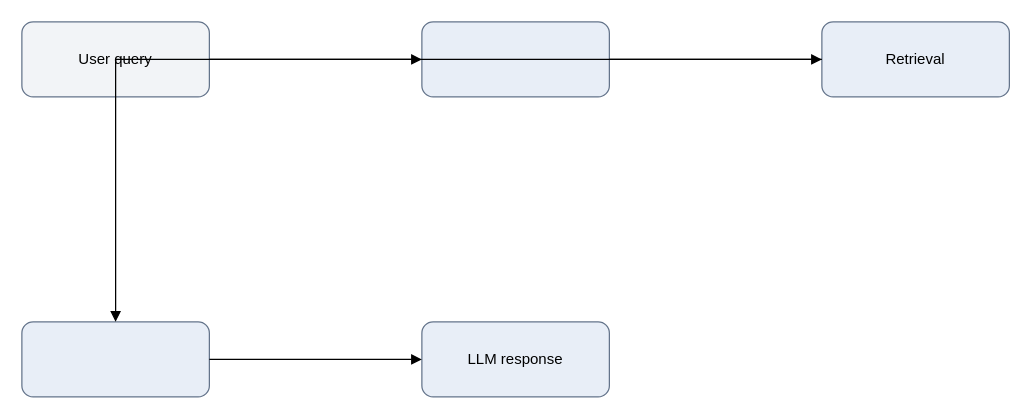
Image size: 1031x419. Some labels were removed from this diagram. Each missing label, with the centre of its shape:
"Context assembly" goes at pixel 115 359.
"Index construction" goes at pixel 515 59.
